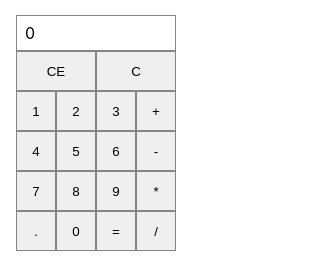
it: <Calculator /> component › Calculate function should be work
Click the button "1".
click(36, 111)  # box [16,91,56,131]
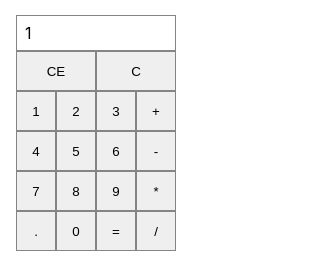
Click the button "+".
click(156, 111)  # box [136,91,176,131]
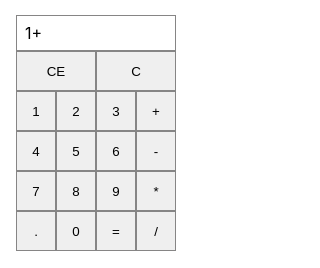
Click the button "2".
click(76, 111)  # box [56,91,96,131]
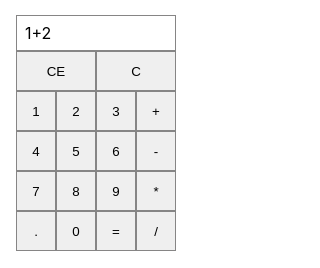
Click the button "=".
click(116, 231)  # box [96,211,136,251]
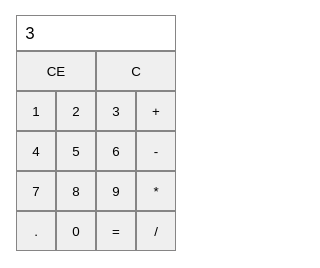
Result: the text with test id "result" reads "3" at [25,23,35,43]
